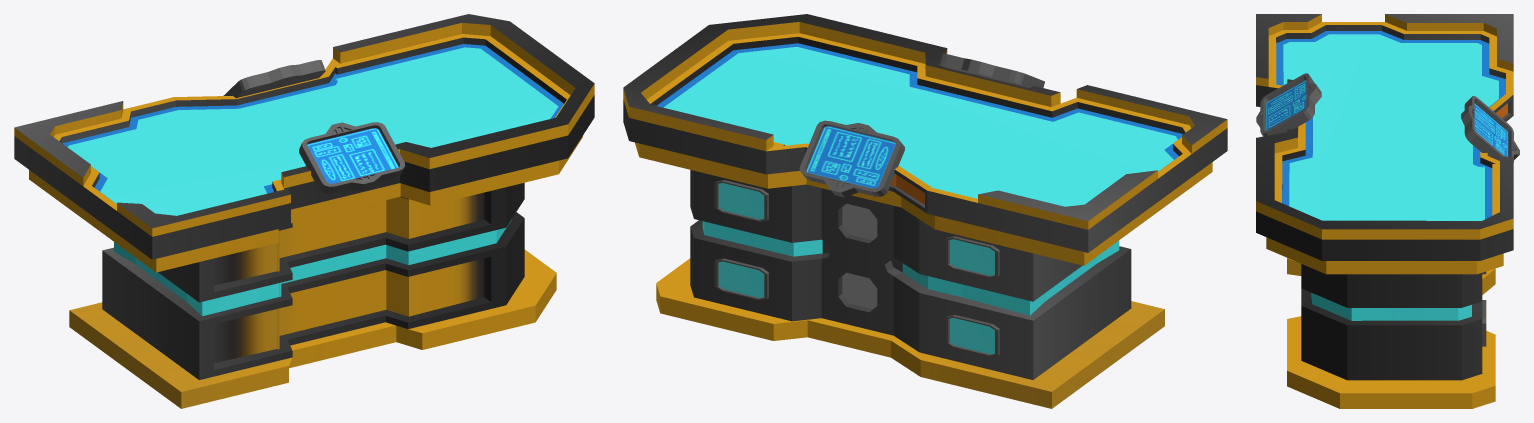
File: Table.fbx
The picture shows the model from 3 angles, left to right: view 1: azimuth 30°, elevation 25°; view 2: azimuth 150°, elevation 25°; view 3: azimuth 270°, elevation 25°; orthographic projection. The views are drawn at different scales.
Visible parts, largest first — view 1: Plane.003; view 2: Plane.003; view 3: Plane.003.
Boxes of the visible parts, x1,y1,x2,y2 form: Plane.003: (14,14,594,408); Plane.003: (623,14,1227,408); Plane.003: (1256,14,1519,408).
Bounding box in the file's own units: 2 × 0.9305 × 1.03.
